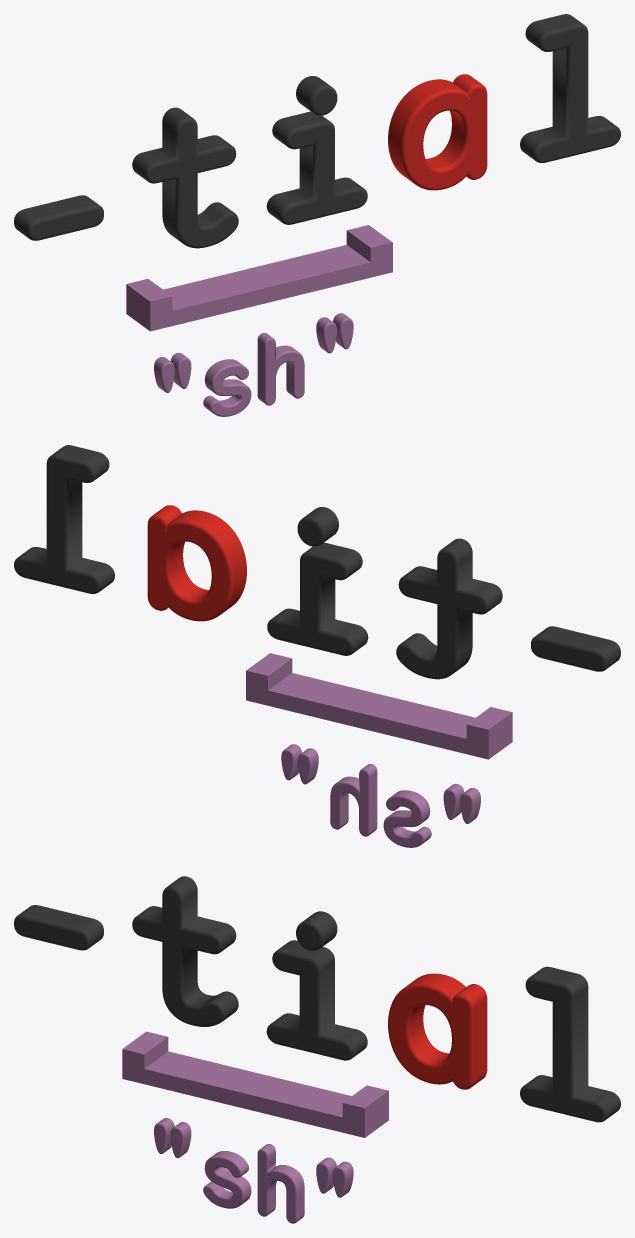
Rendered from -tial.gltf.
3 views of the same model, one above another, from view 1: azimuth 30°, elevation 25°; view 2: azimuth 150°, elevation 25°; view 3: azimuth 330°, elevation 25° (orthographic).
Visible parts, largest first — view 1: Text, Cube.001, Text.002, Text.003, Text.001; view 2: Text, Cube.001, Text.002, Text.003, Text.001; view 3: Text, Cube.001, Text.002, Text.003, Text.001.
Boxes of the visible parts, x1,y1,x2,y2 form: Text: (266, 14, 620, 224); Cube.001: (126, 225, 392, 331); Text.002: (14, 107, 238, 248); Text.003: (388, 74, 487, 190); Text.001: (154, 313, 353, 416); Text: (14, 445, 368, 655); Cube.001: (246, 653, 512, 759); Text.002: (396, 538, 620, 679); Text.003: (147, 505, 246, 621); Text.001: (281, 744, 480, 847); Text: (266, 911, 620, 1122); Cube.001: (122, 1031, 388, 1137); Text.002: (14, 876, 238, 1026); Text.003: (388, 973, 487, 1089); Text.001: (154, 1118, 353, 1223).
Bounding box in the file's own units: 2.72 × 1.37 × 0.1906.
